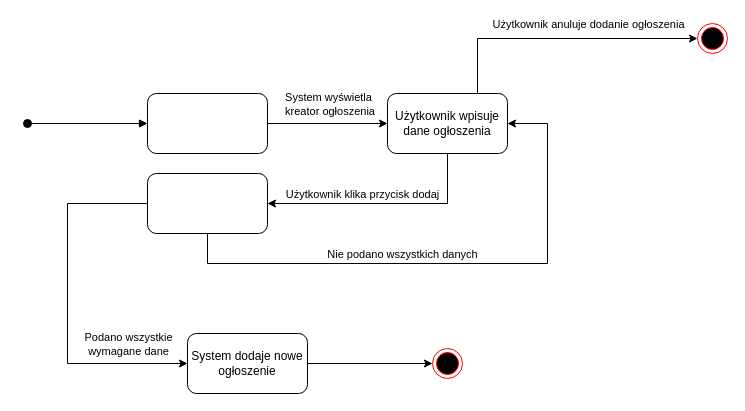
Image size: 745x411. Some labels were removed from this diagram. Here are the shapes that lost their labels. From the top down, the centre of each, then its label:
the point at 207,123: Użytkownik kilka przycisk dodaj nowe ogłoszenie
the point at 207,203: System sprawdza czy wszystkie wymagane dane są wpisane
